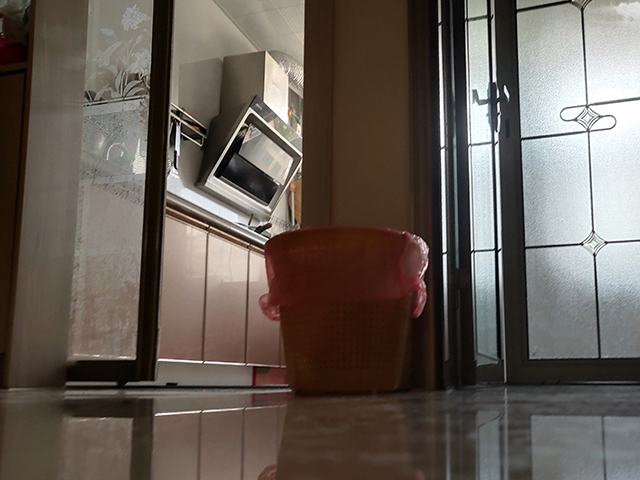cabinet: (153, 188, 291, 386)
trashcan: (262, 225, 431, 398)
